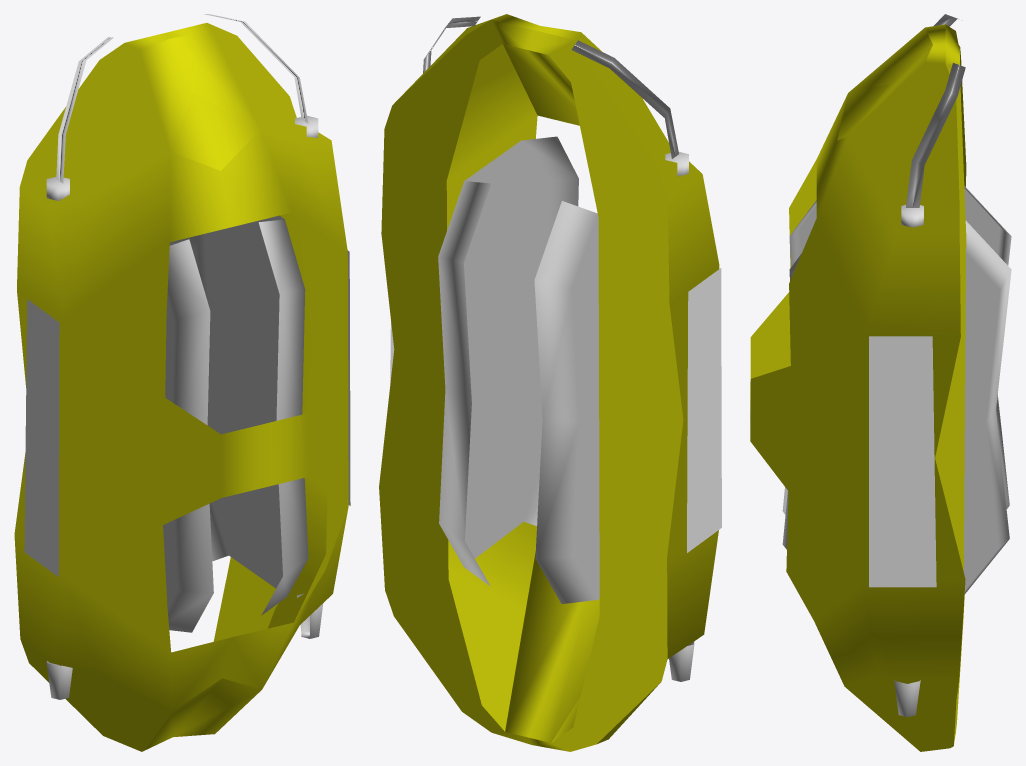
Rendered from Shared_Caliper_Car_Nissan_GTRPremium_2015_Caliper03_L_FL.fbx.
3 renders of one model, left to right at view 1: azimuth 30°, elevation 25°; view 2: azimuth 150°, elevation 25°; view 3: azimuth 270°, elevation 25°, orthographic. The views are drawn at different scales.
Parts seen in each view (by area): view 1: Car_Nissan_GTRPremium_2015_Caliper03_L_FL 1; view 2: Car_Nissan_GTRPremium_2015_Caliper03_L_FL 1; view 3: Car_Nissan_GTRPremium_2015_Caliper03_L_FL 1.
Boxes of the visible parts, x1,y1,x2,y2 form: Car_Nissan_GTRPremium_2015_Caliper03_L_FL 1: (14,14,350,751); Car_Nissan_GTRPremium_2015_Caliper03_L_FL 1: (379,14,721,751); Car_Nissan_GTRPremium_2015_Caliper03_L_FL 1: (750,14,1011,751).
Size of the model in its own units: 0.143 by 0.3305 by 0.1127.
